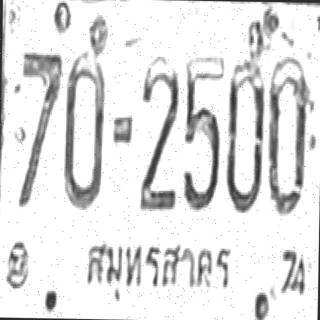N00: (266, 54, 312, 216), (62, 53, 106, 210), (224, 57, 264, 214)
N02: (138, 52, 180, 212)
N05: (182, 53, 224, 212)
N07: (16, 50, 62, 210)
P58: (80, 234, 237, 303)
